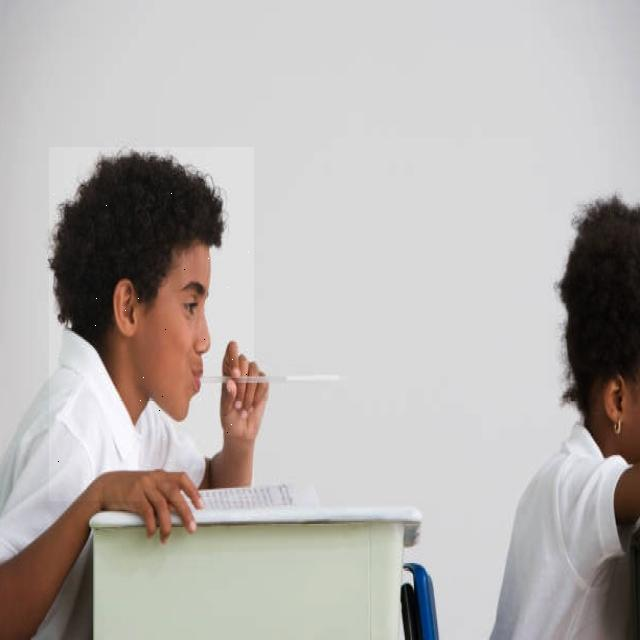Spitting: (49, 147, 254, 501)
